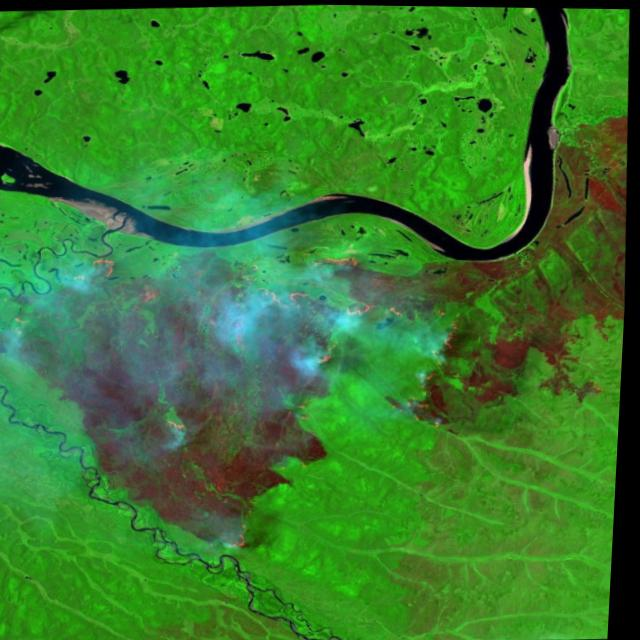fire: (39, 235, 476, 559)
